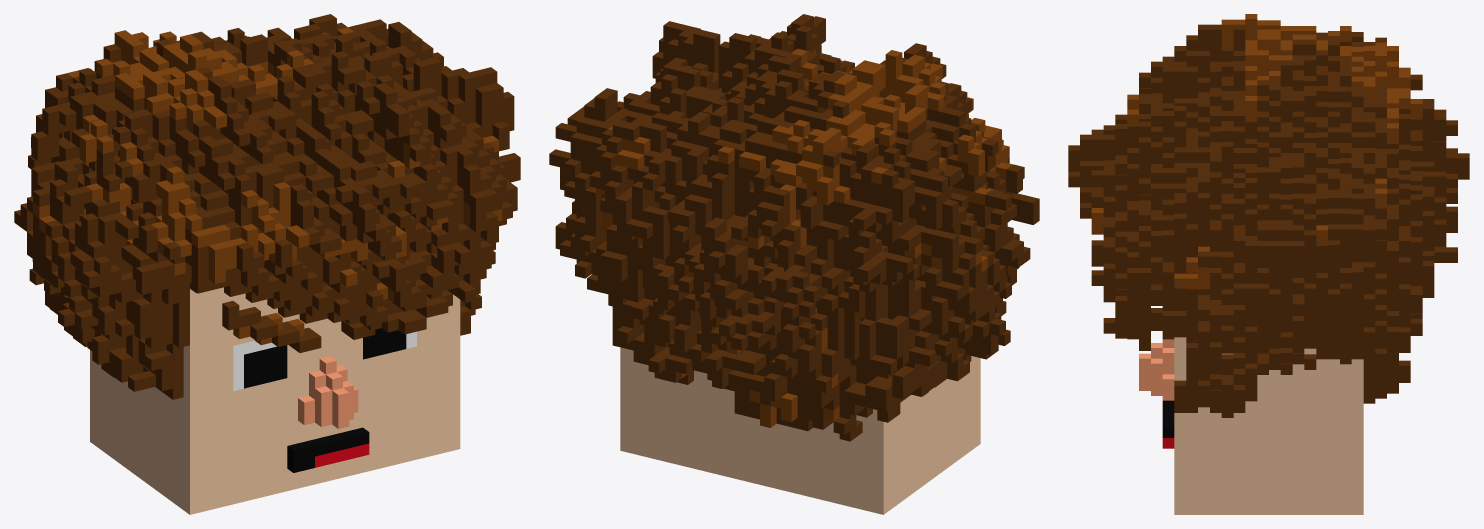
File: Head.obj
The picture shows the model from 3 angles, left to right: view 1: azimuth 30°, elevation 25°; view 2: azimuth 150°, elevation 25°; view 3: azimuth 270°, elevation 25°; orthographic projection. The views are drawn at different scales.
Visible parts, largest first — view 1: Head; view 2: Head; view 3: Head.
Boxes of the visible parts, bbox=[...] form: Head: bbox=[14, 14, 520, 514]; Head: bbox=[549, 14, 1039, 514]; Head: bbox=[1068, 14, 1469, 514].
Size of the model in its own units: 38 by 37 by 34.
Materials: 1 (1 with a texture image).
